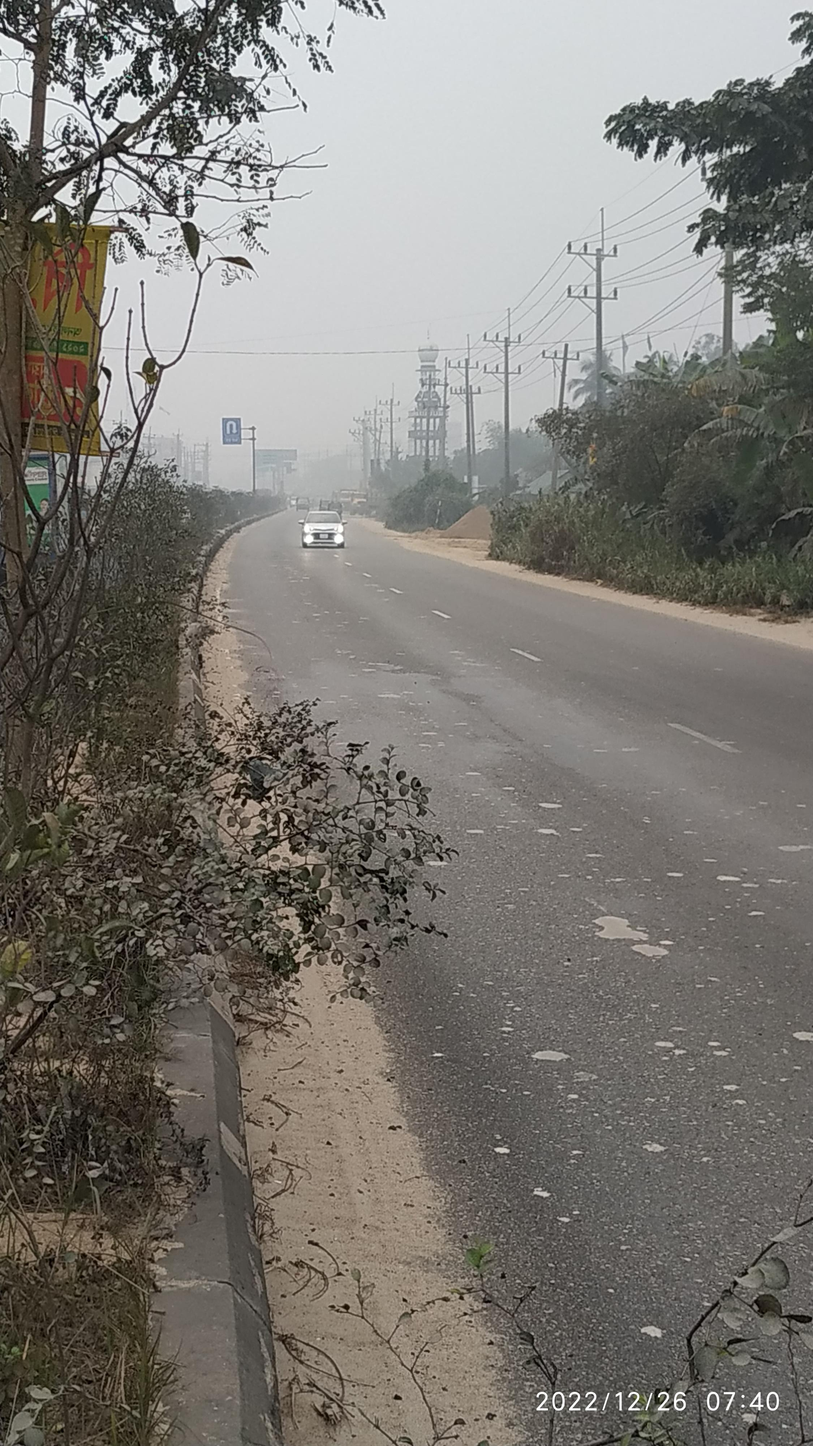Car: (280, 497, 363, 557)
